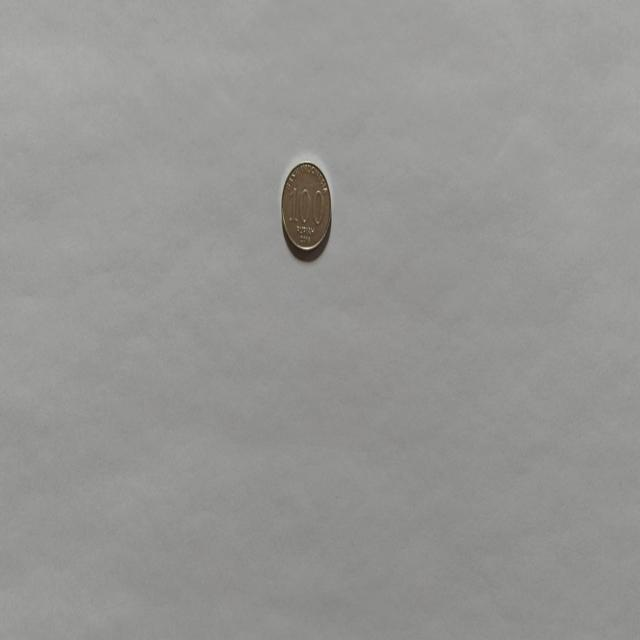seratus rupiah: (280, 159, 332, 259)
